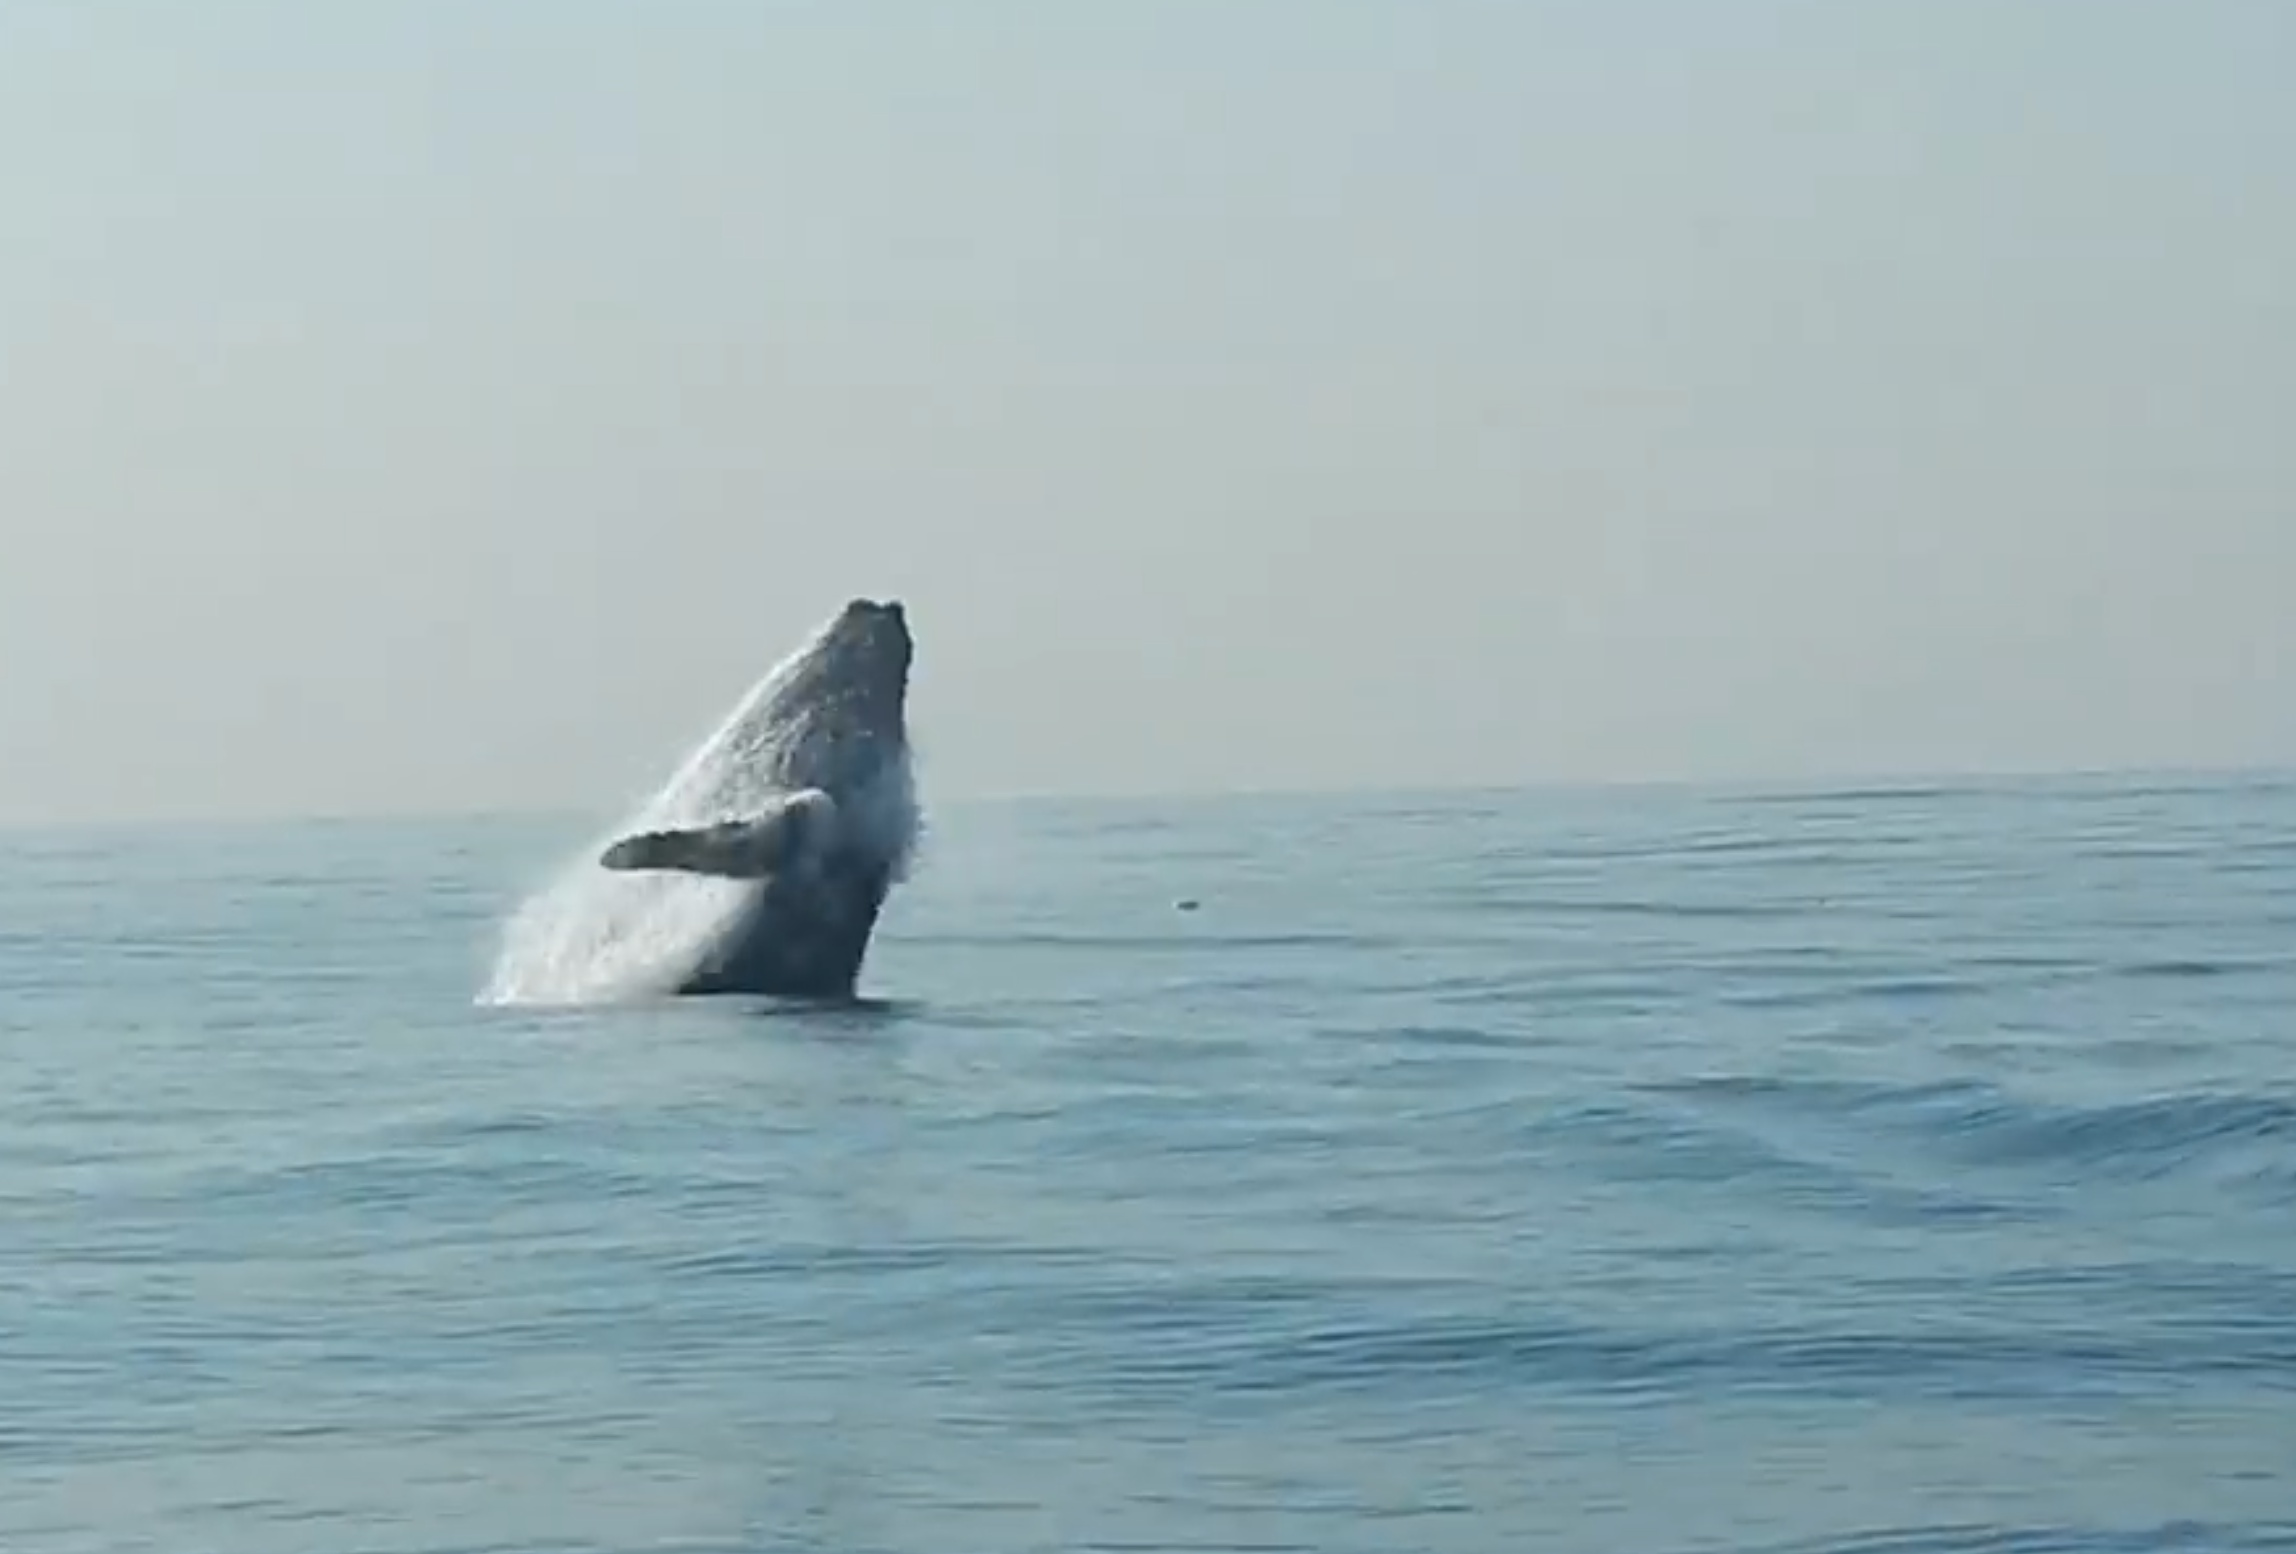humpback: (603, 591, 924, 1001)
